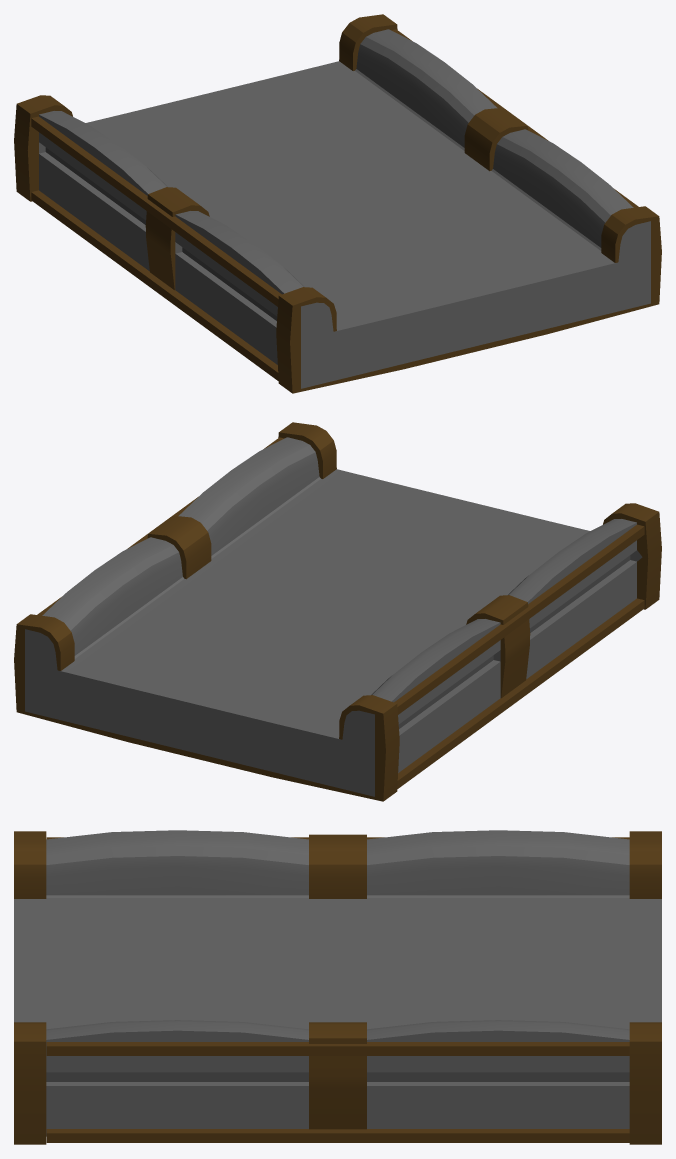
Rendered from mesh_bridge_1.fbx.
3 views of the same model, one above another, from view 1: azimuth 30°, elevation 25°; view 2: azimuth 150°, elevation 25°; view 3: azimuth 270°, elevation 25° (orthographic). The views are drawn at different scales.
Visible parts, largest first — view 1: bridge_1; view 2: bridge_1; view 3: bridge_1.
Boxes of the visible parts, <box> form: bridge_1: <box>14,14,661,393</box>; bridge_1: <box>14,422,661,801</box>; bridge_1: <box>14,830,661,1144</box>.
Bounding box in the file's own units: 4702 × 1157 × 6042.
1 material, 1 textured.
